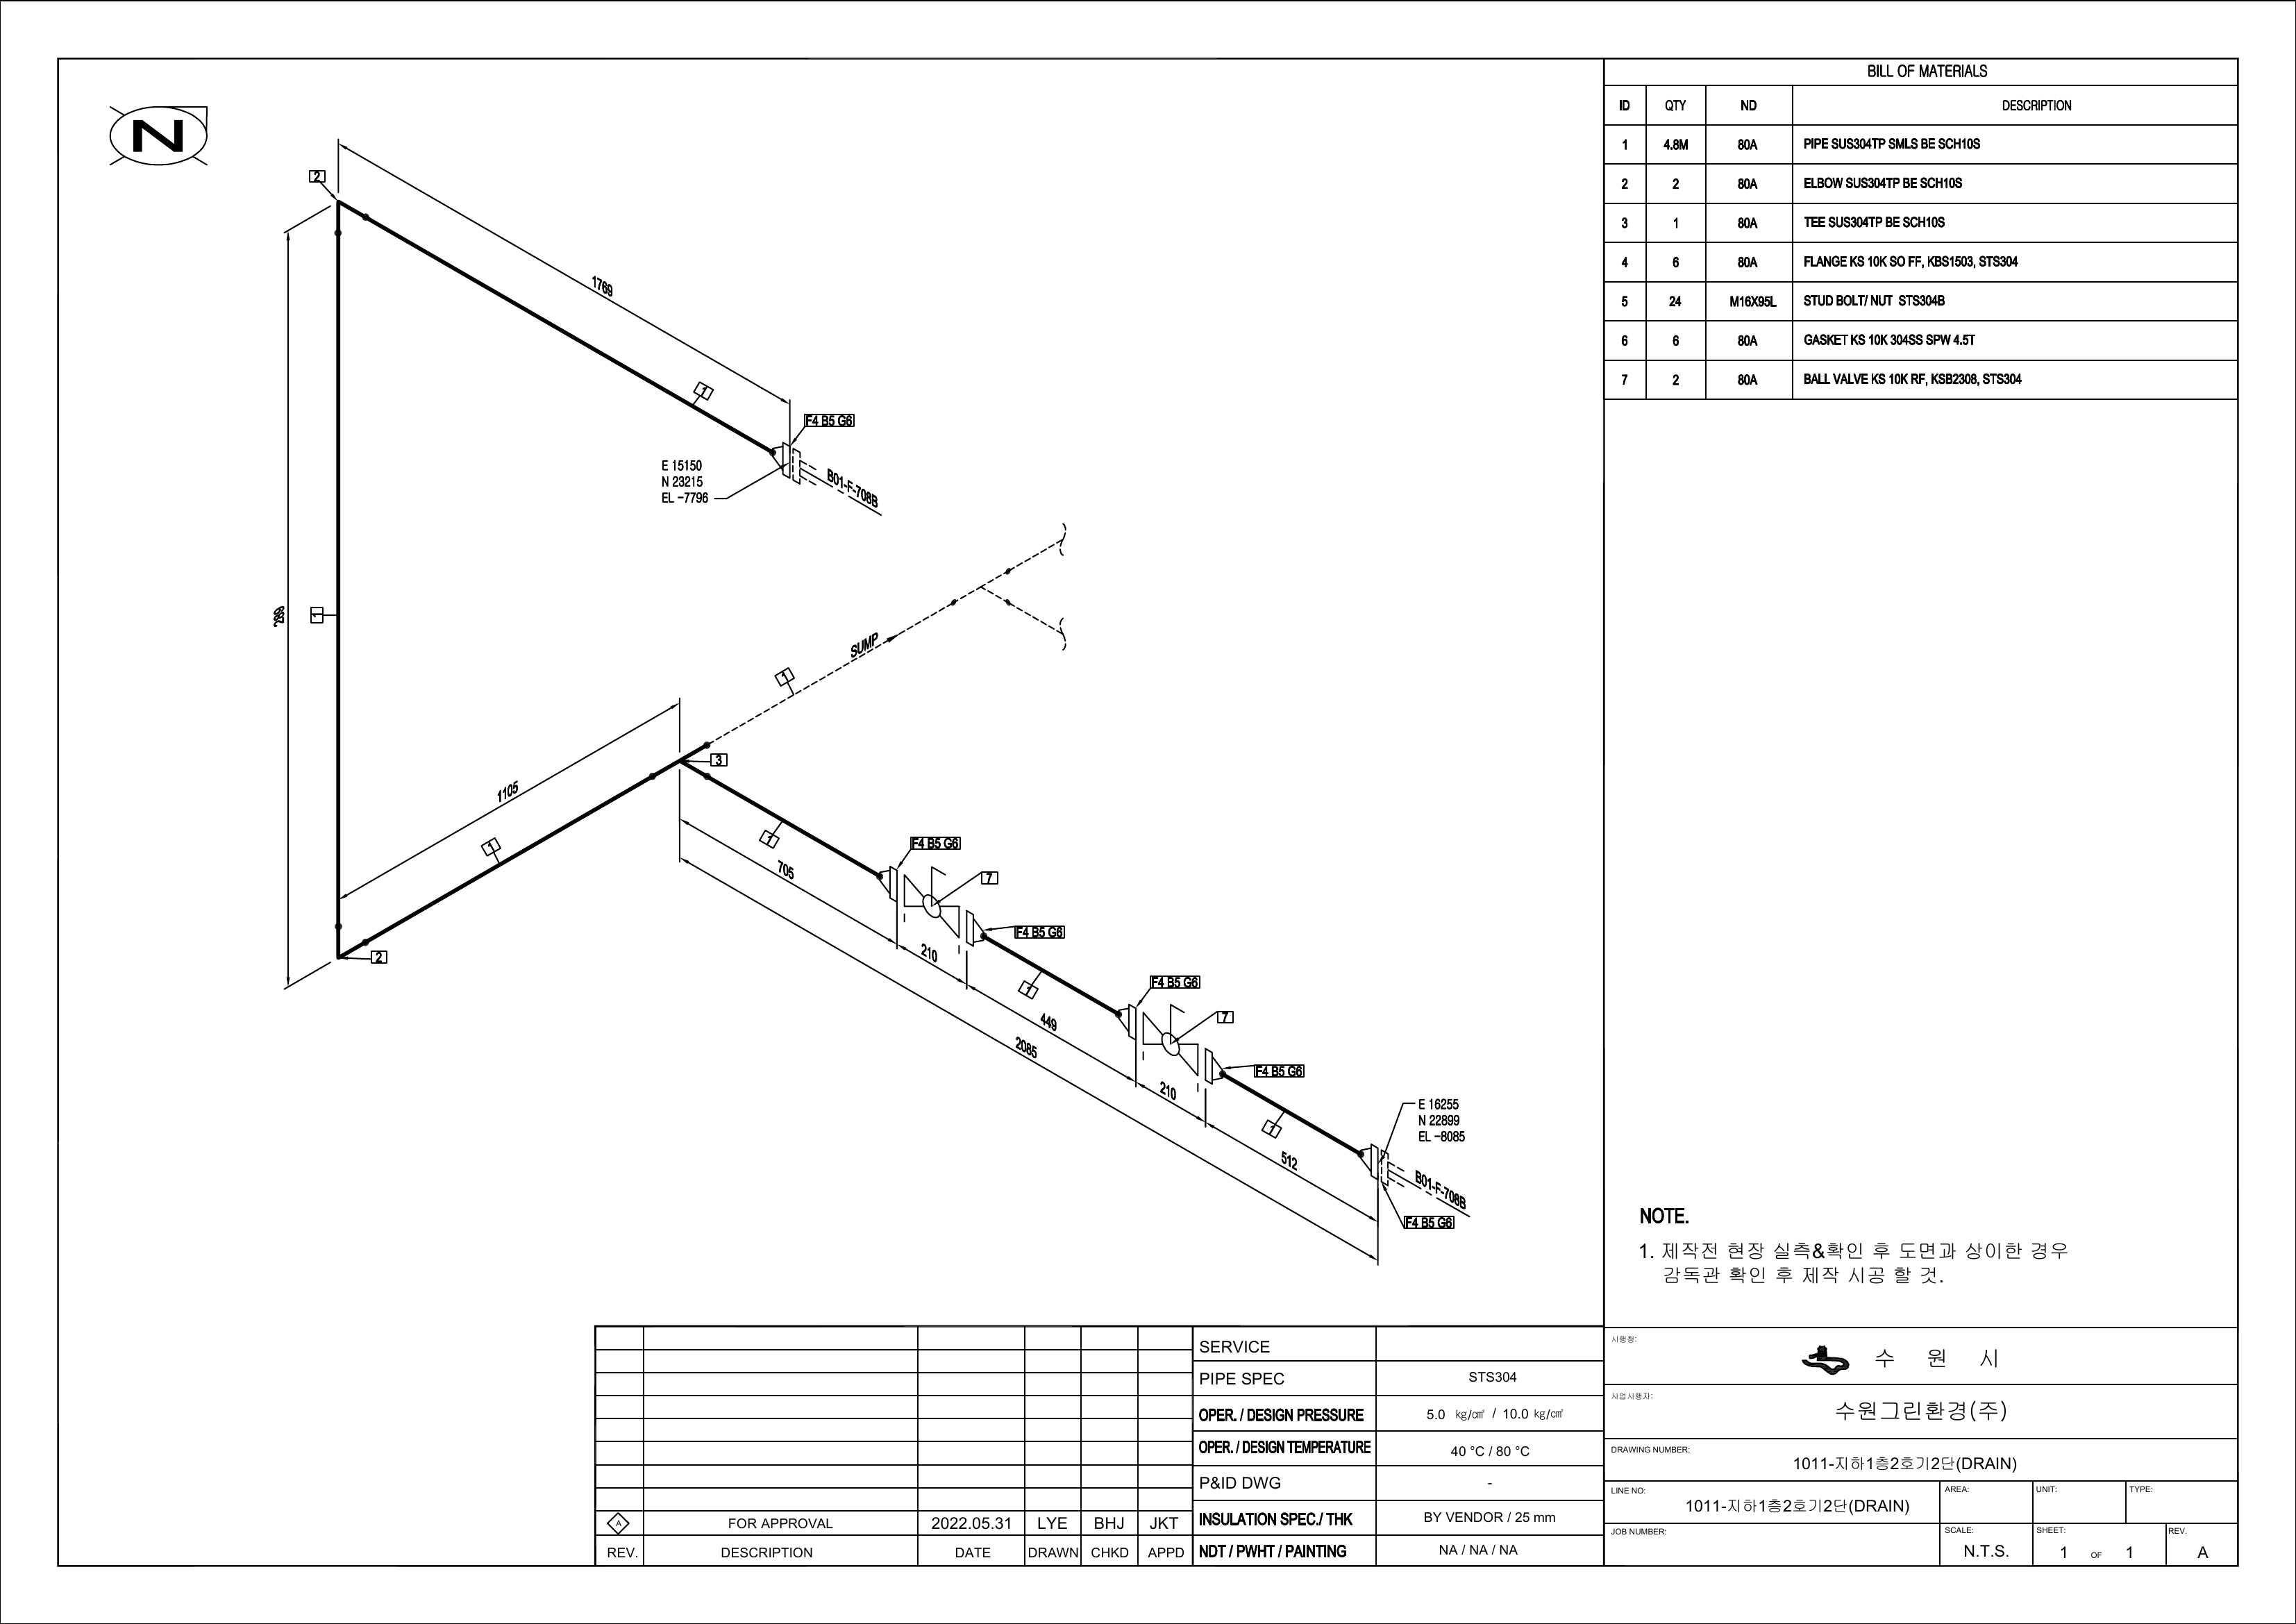table: (1592, 40, 2250, 415)
